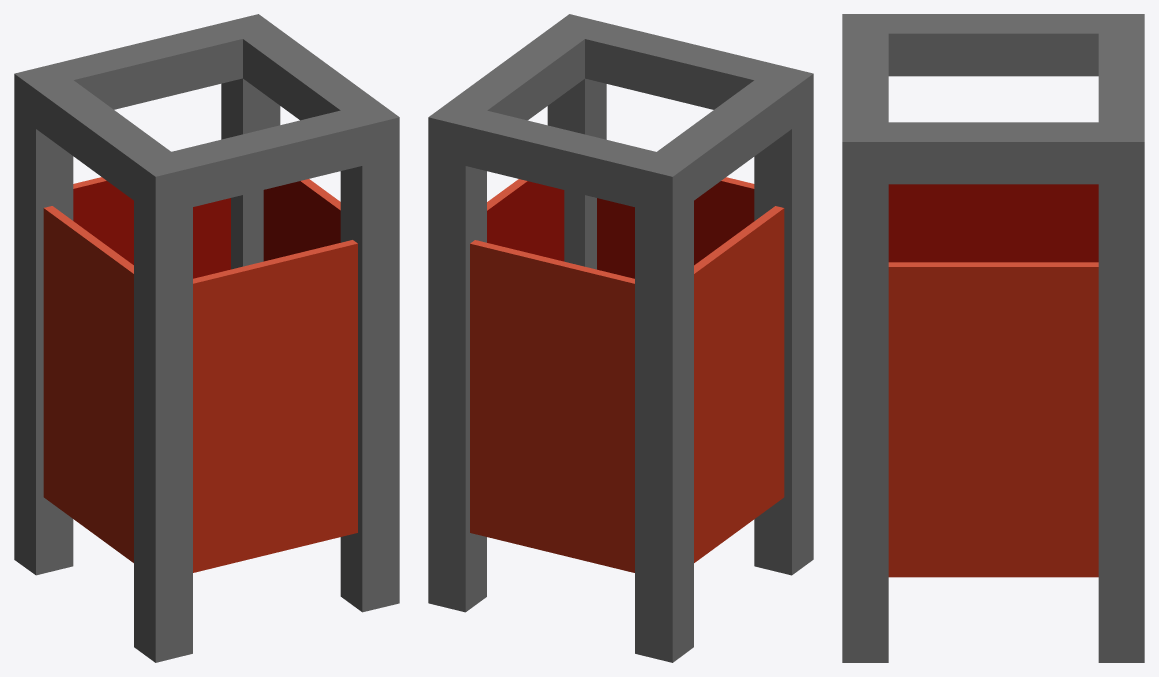
File: Trash-02-B.fbx
The picture shows the model from 3 angles, left to right: view 1: azimuth 30°, elevation 25°; view 2: azimuth 150°, elevation 25°; view 3: azimuth 270°, elevation 25°; orthographic projection. The views are drawn at different scales.
Visible parts, largest first — view 1: Trash-02; view 2: Trash-02; view 3: Trash-02.
Part boxes in pixels (bbox=[...]): Trash-02: bbox=[14, 14, 399, 662]; Trash-02: bbox=[428, 14, 813, 662]; Trash-02: bbox=[842, 14, 1144, 662].
Size of the model in its own units: 0.5646 by 1.07 by 0.5646.
